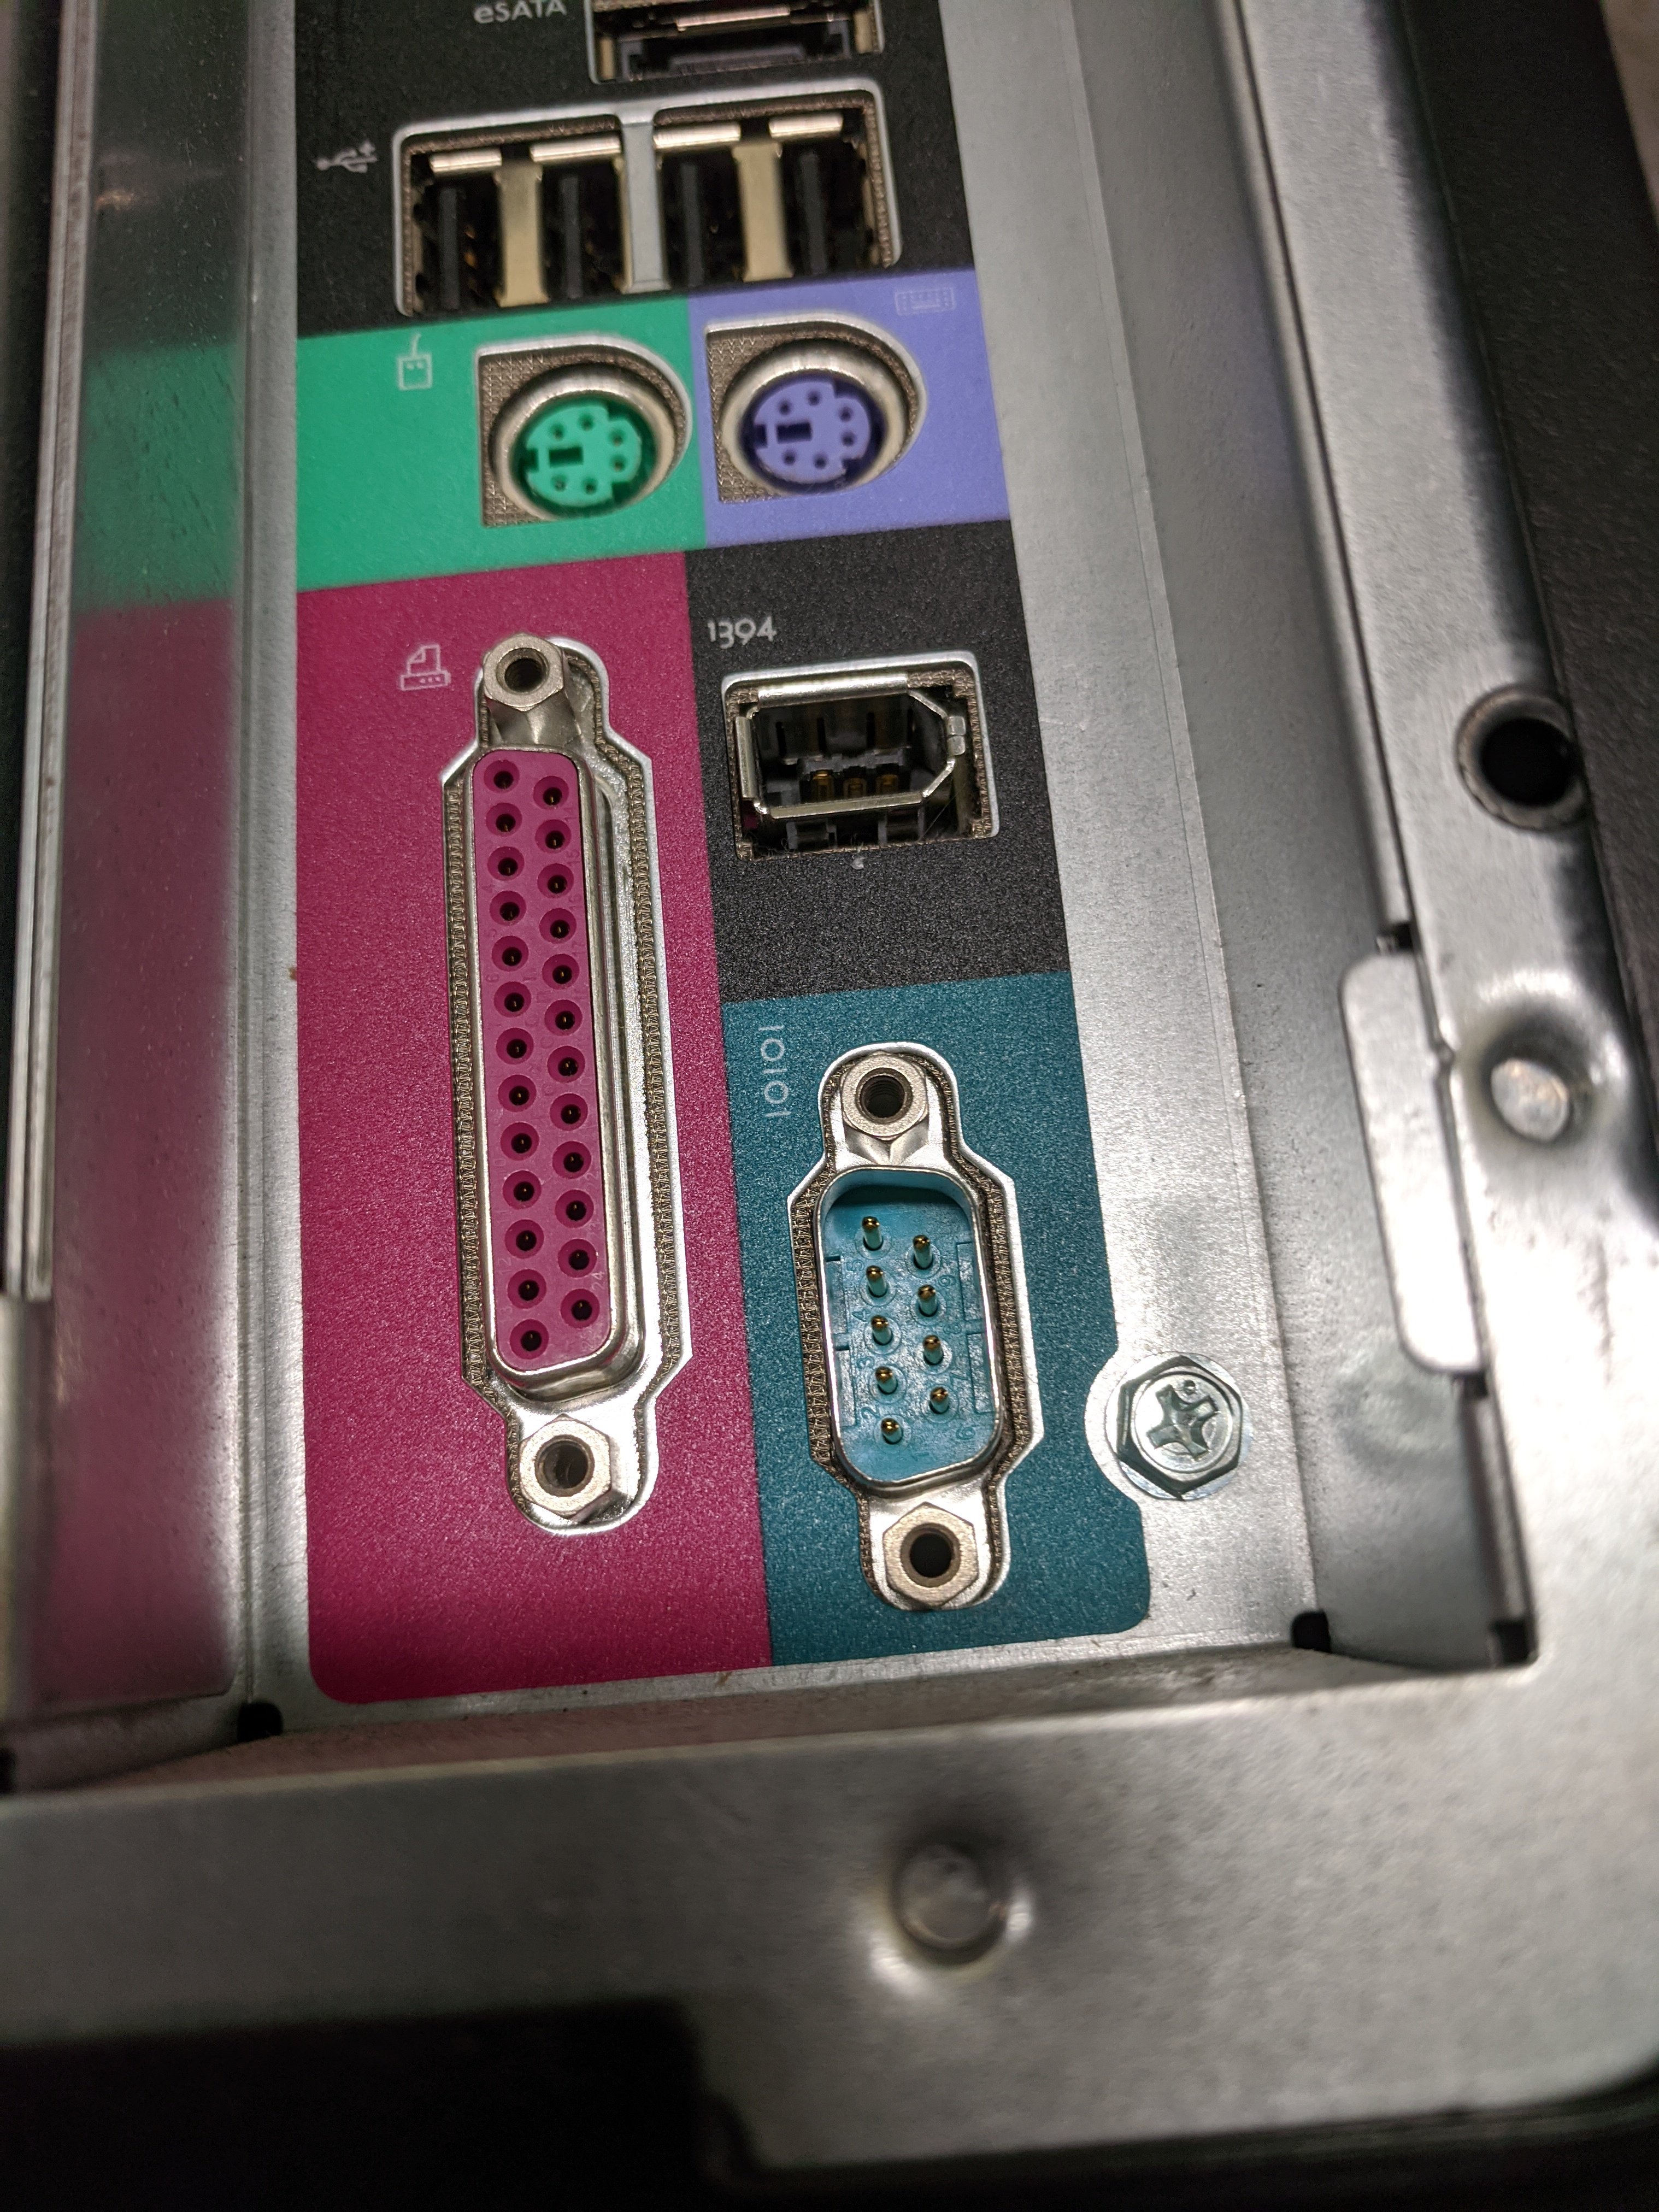cross_recessed_screw: (1094, 1338, 1263, 1498)
